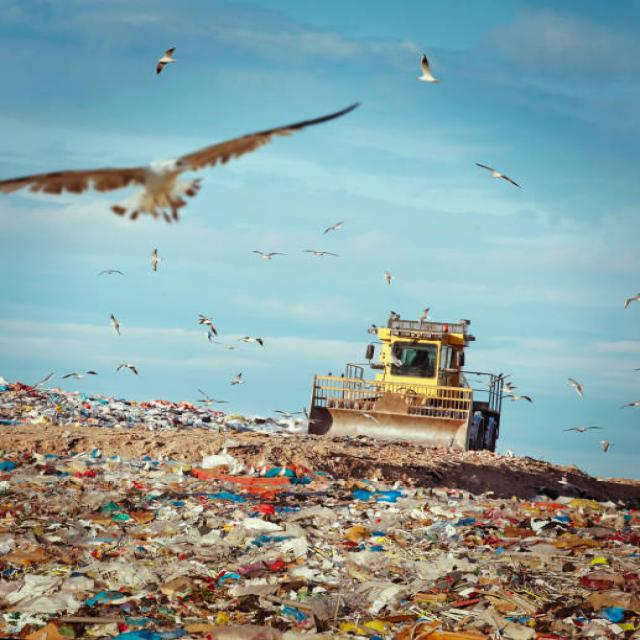trash: (37, 405, 607, 613)
